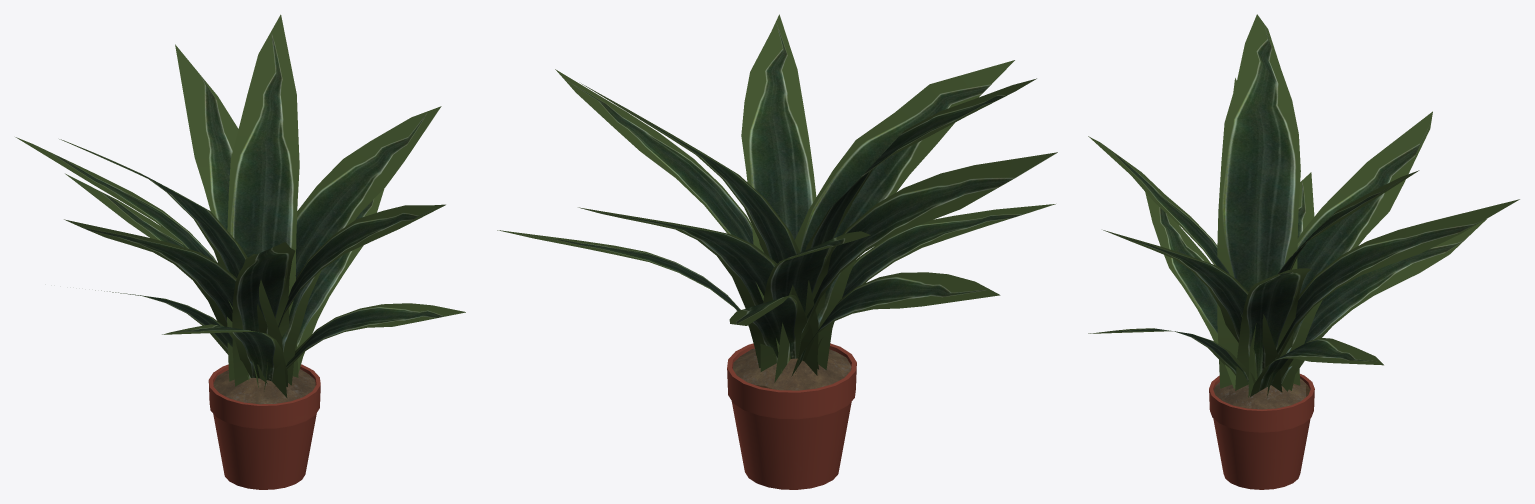
Rendered from plante.glb.
3 views of the same model, side by side, from view 1: azimuth 30°, elevation 25°; view 2: azimuth 150°, elevation 25°; view 3: azimuth 270°, elevation 25° (orthographic). The views are drawn at different scales.
Visible parts, largest first — view 1: eb_house_plant_02; view 2: eb_house_plant_02; view 3: eb_house_plant_02.
Boxes of the visible parts, left/top/right/bottom form: eb_house_plant_02: left=15, top=14, right=465, bottom=489; eb_house_plant_02: left=497, top=14, right=1057, bottom=489; eb_house_plant_02: left=1088, top=14, right=1519, bottom=489.
Size of the model in its own units: 7.77 by 7.08 by 7.65.
1 material, 1 textured.
